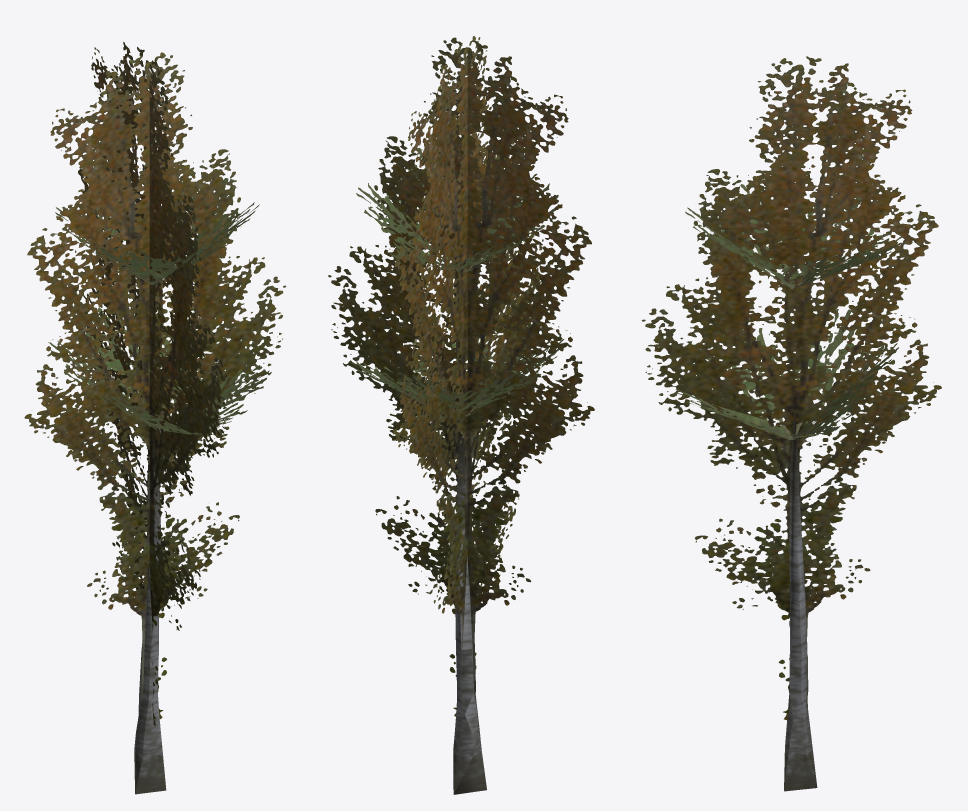
Rendered from briza_k0.glb.
3 views of the same model, side by side, from view 1: azimuth 30°, elevation 25°; view 2: azimuth 150°, elevation 25°; view 3: azimuth 270°, elevation 25° (orthographic). The views are drawn at different scales.
Parts seen in each view (by area): view 1: Background_Tree_Atlas.001_Background_Tree_Atlas_0; view 2: Background_Tree_Atlas.001_Background_Tree_Atlas_0; view 3: Background_Tree_Atlas.001_Background_Tree_Atlas_0.
Part boxes in pixels (x1,y1,x2,y2): Background_Tree_Atlas.001_Background_Tree_Atlas_0: (24, 42, 286, 794); Background_Tree_Atlas.001_Background_Tree_Atlas_0: (328, 36, 594, 794); Background_Tree_Atlas.001_Background_Tree_Atlas_0: (641, 56, 941, 791).
Bounding box in the file's own units: 7.64 × 19.61 × 7.64.
Materials: 1 (1 with a texture image).
